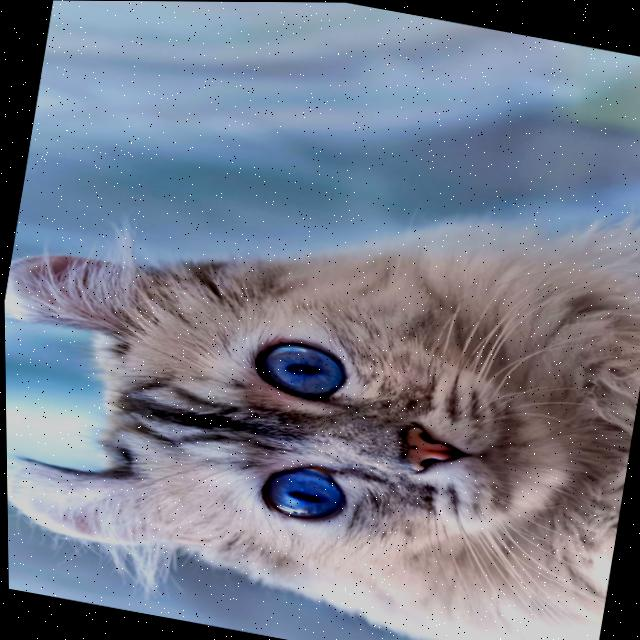American Curl: (1, 99, 640, 640)
